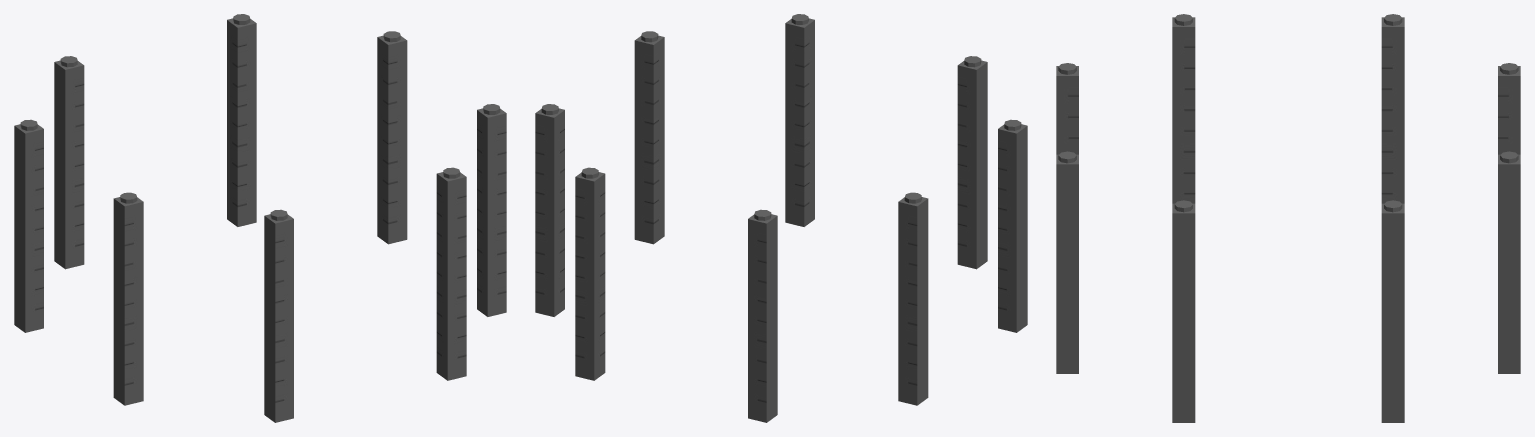
The model's file is columnas.obj.
3 renders of one model, left to right at view 1: azimuth 30°, elevation 25°; view 2: azimuth 150°, elevation 25°; view 3: azimuth 270°, elevation 25°, orthographic. The views are drawn at different scales.
Visible parts, largest first — view 1: Cube; view 2: Cube; view 3: Cube.
Part boxes in pixels (x1,y1,x2,y2): Cube: (14,14,506,422); Cube: (535,14,1027,422); Cube: (1056,14,1520,422).
Size of the model in its own units: 19.99 by 10.17 by 20.02.
